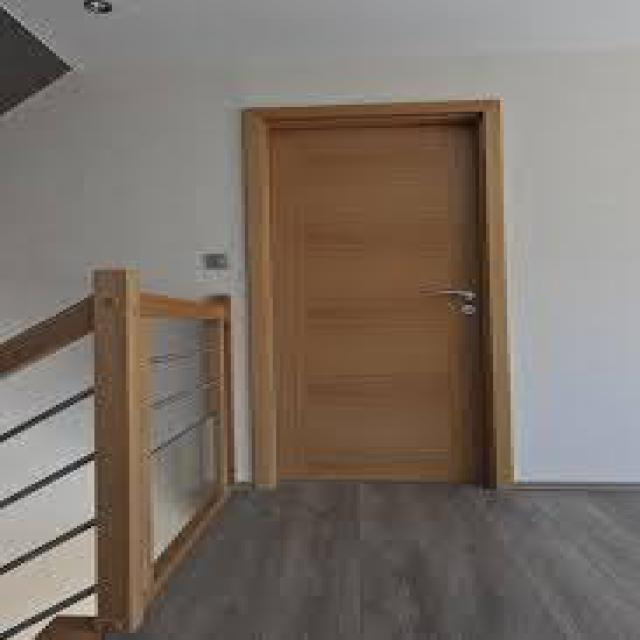close: (206, 93, 549, 503)
